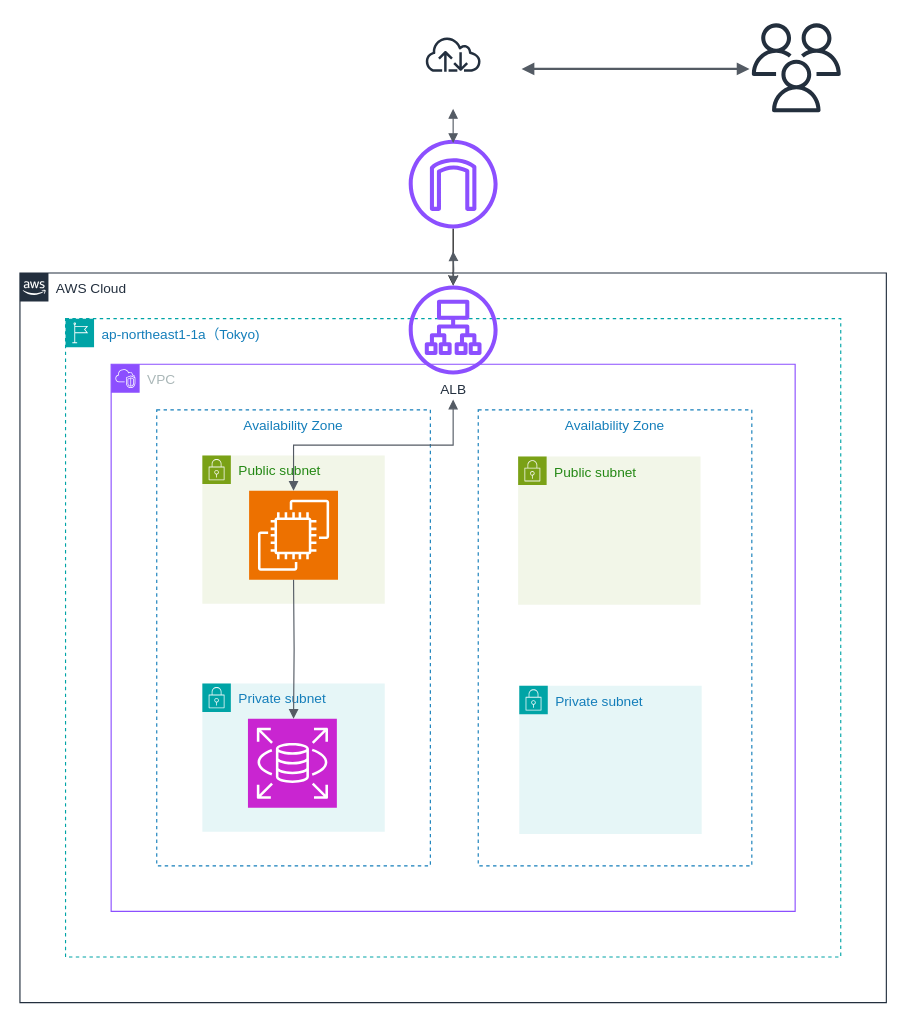
This 906x1023 diagram has some shape labels left out. Here are the shapes that lost their labels. From the top down, the centre of each, then its label:
At [452,53]: "Internet".
At [452,183]: "IGW".
